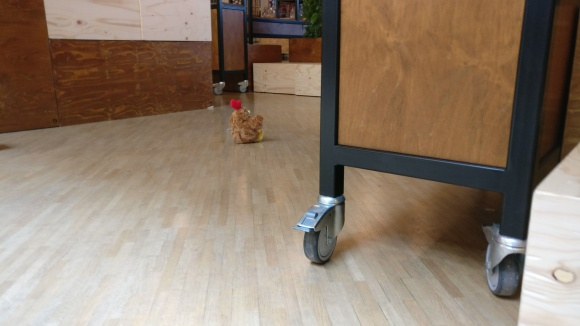chicken: (228, 97, 265, 144)
